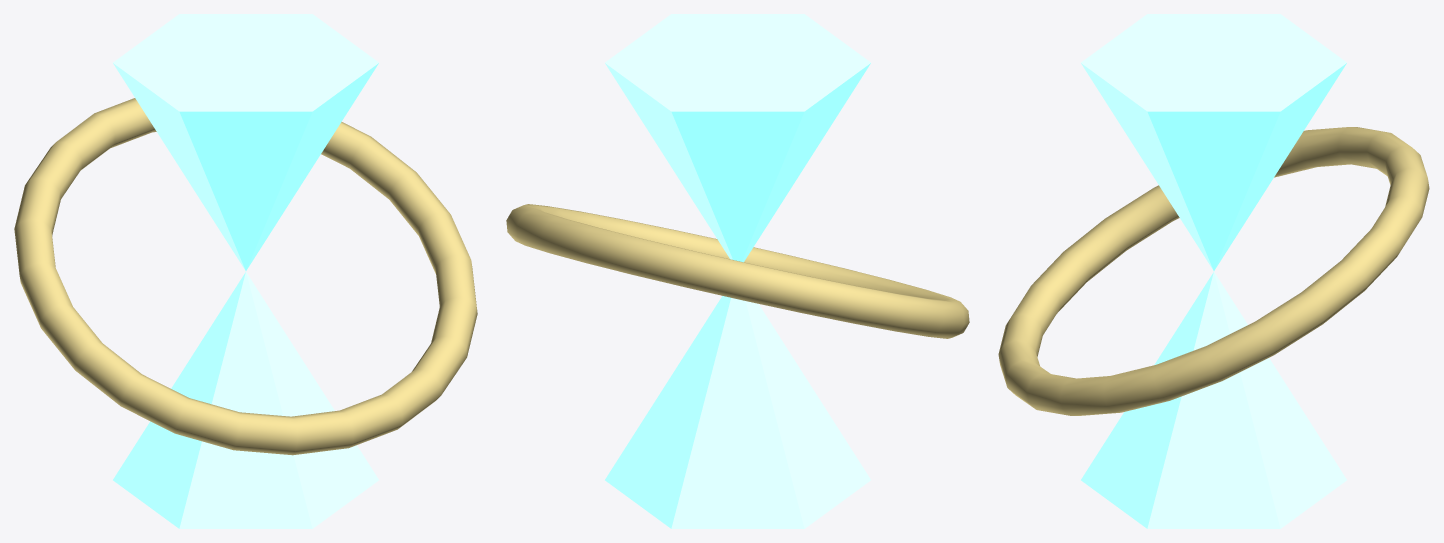
Rendered from rune-crystal.glb.
The picture shows the model from 3 angles, left to right: view 1: azimuth 30°, elevation 25°; view 2: azimuth 150°, elevation 25°; view 3: azimuth 270°, elevation 25°; orthographic projection.
Parts seen in each view (by area): view 1: Crystal_Core, Ring; view 2: Crystal_Core, Ring; view 3: Crystal_Core, Ring.
Boxes of the visible parts, left/top/right/bottom form: Crystal_Core: left=113, top=14, right=378, bottom=528; Ring: left=14, top=98, right=477, bottom=455; Crystal_Core: left=605, top=14, right=870, bottom=528; Ring: left=506, top=204, right=969, bottom=338; Crystal_Core: left=1081, top=14, right=1346, bottom=528; Ring: left=998, top=127, right=1429, bottom=415.
Bounding box in the file's own units: 0.784 × 0.76 × 0.7113.
